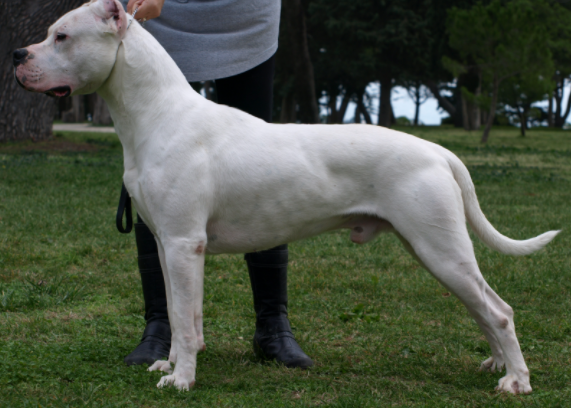dog: (12, 0, 558, 392)
